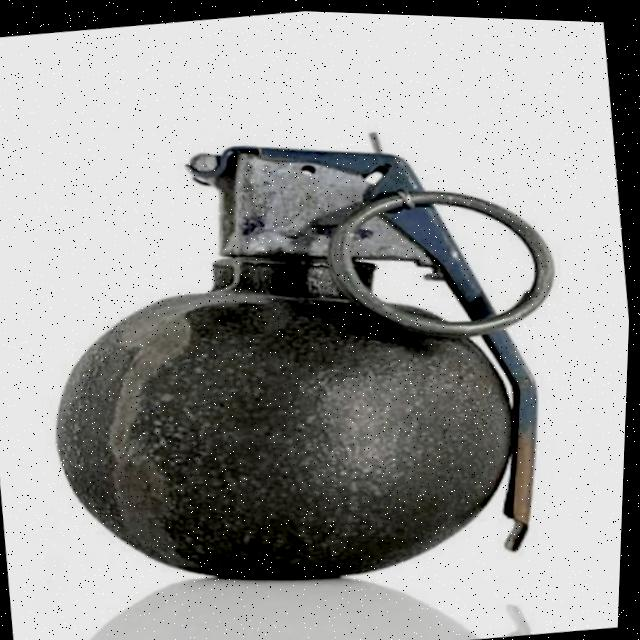grenade: (5, 69, 636, 640)
